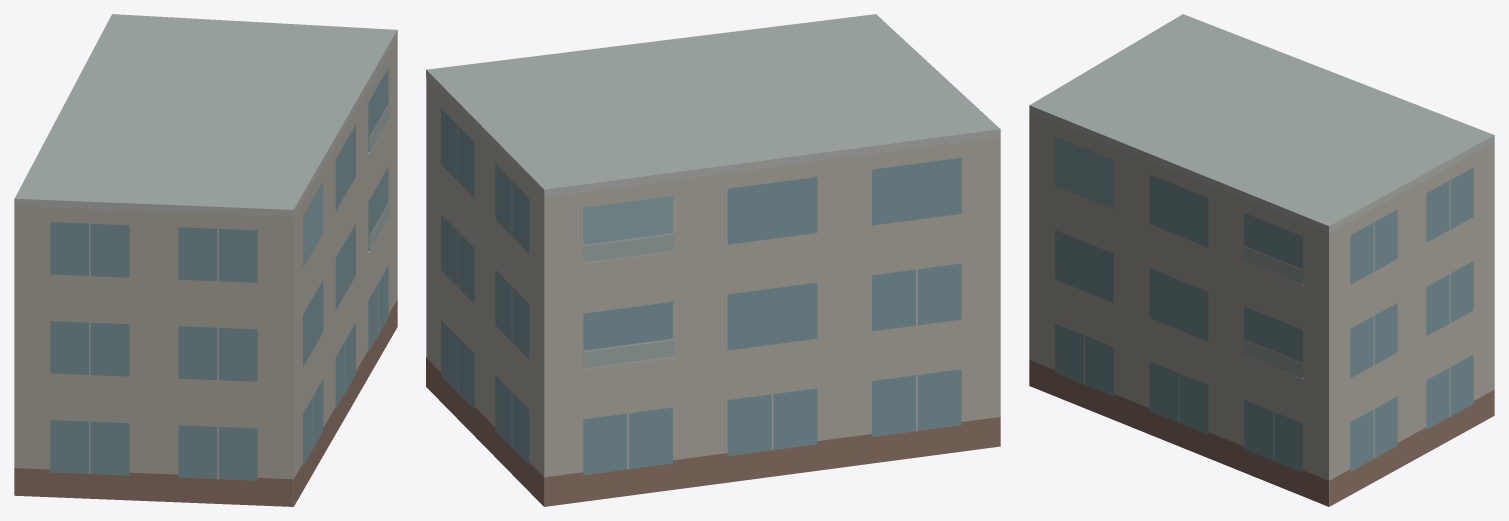
Rendered from survey-upis-32472095.glb.
3 renders of one model, left to right at view 1: azimuth 30°, elevation 25°; view 2: azimuth 150°, elevation 25°; view 3: azimuth 270°, elevation 25°, orthographic. The views are drawn at different scales.
Parts seen in each view (by area): view 1: survey-upis-32472095.tmp; view 2: survey-upis-32472095.tmp; view 3: survey-upis-32472095.tmp.
Part boxes in pixels (x1=…): survey-upis-32472095.tmp: x1=14, y1=14, x2=397, y2=506; survey-upis-32472095.tmp: x1=426, y1=14, x2=1000, y2=506; survey-upis-32472095.tmp: x1=1029, y1=14, x2=1494, y2=506.
Size of the model in its own units: 16.15 by 9.95 by 14.96.
